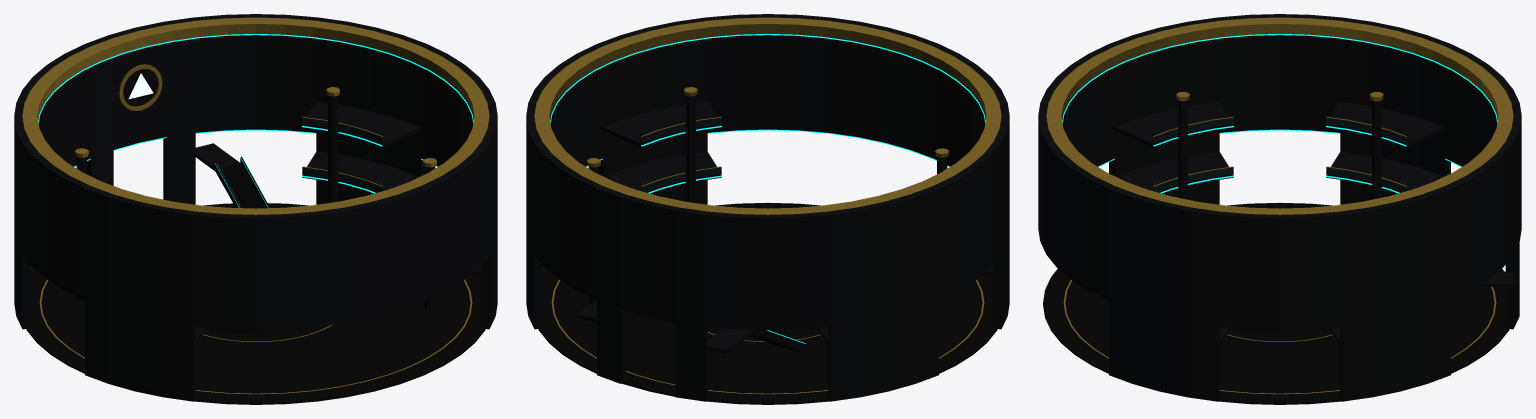
The model's file is shaddai_athenaeum_rotunda_v01.glb.
3 views of the same model, side by side, from view 1: azimuth 30°, elevation 25°; view 2: azimuth 150°, elevation 25°; view 3: azimuth 270°, elevation 25° (orthographic).
Parts seen in each view (by area): view 1: athenaeum_shell, athenaeum_props; view 2: athenaeum_shell; view 3: athenaeum_shell.
Part boxes in pixels (left/top/right/bottom): athenaeum_shell: left=14, top=14, right=497, bottom=404; athenaeum_props: left=118, top=64, right=271, bottom=334; athenaeum_shell: left=526, top=14, right=1009, bottom=404; athenaeum_shell: left=1038, top=14, right=1521, bottom=404.
Bounding box in the file's own units: 70.4 × 30.3 × 70.4.
